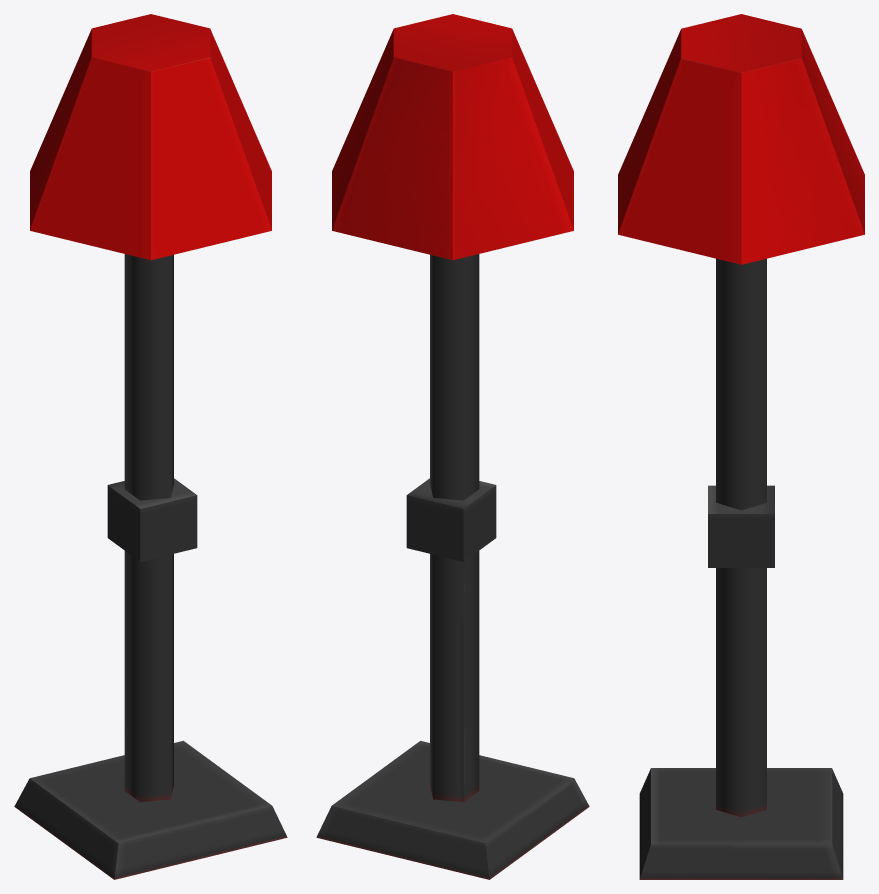
Rendered from Lamps_1A.fbx.
The picture shows the model from 3 angles, left to right: view 1: azimuth 30°, elevation 25°; view 2: azimuth 150°, elevation 25°; view 3: azimuth 270°, elevation 25°; orthographic projection.
Visible parts, largest first — view 1: polySurface1485; view 2: polySurface1485; view 3: polySurface1485.
Part boxes in pixels (box(x1,y1,x2,y2)): polySurface1485: box(14, 14, 287, 879); polySurface1485: box(316, 14, 589, 879); polySurface1485: box(618, 14, 864, 879).
Bounding box in the file's own units: 0.7403 × 2.28 × 0.6411.
